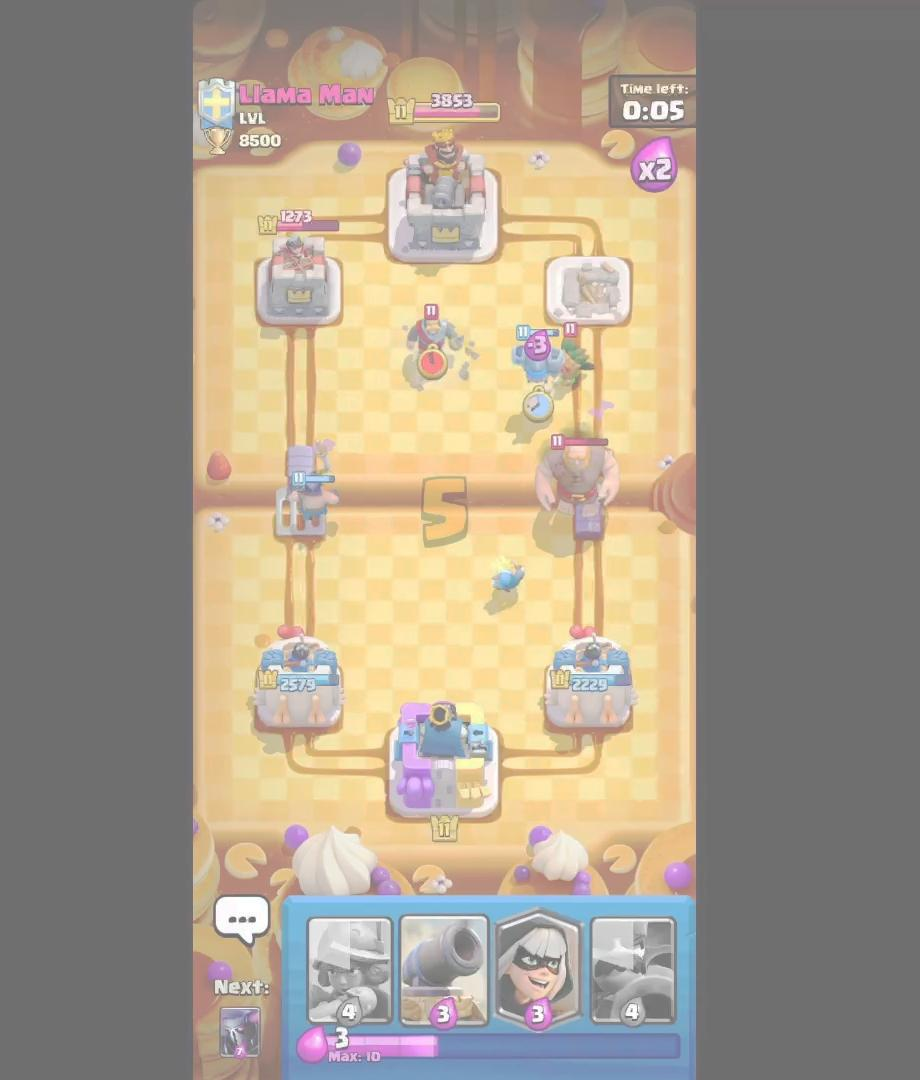Dart Goblin: (547, 323, 594, 391)
Giant: (532, 429, 619, 526)
Knight: (402, 303, 471, 373)
